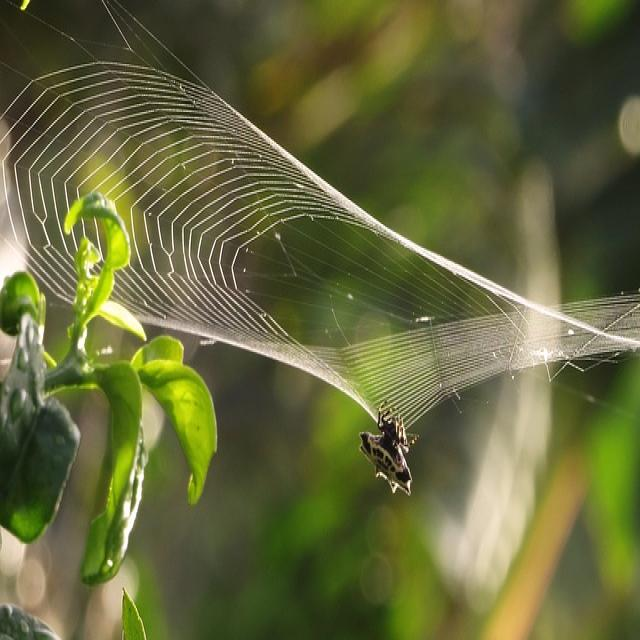spyder: (360, 404, 418, 493)
